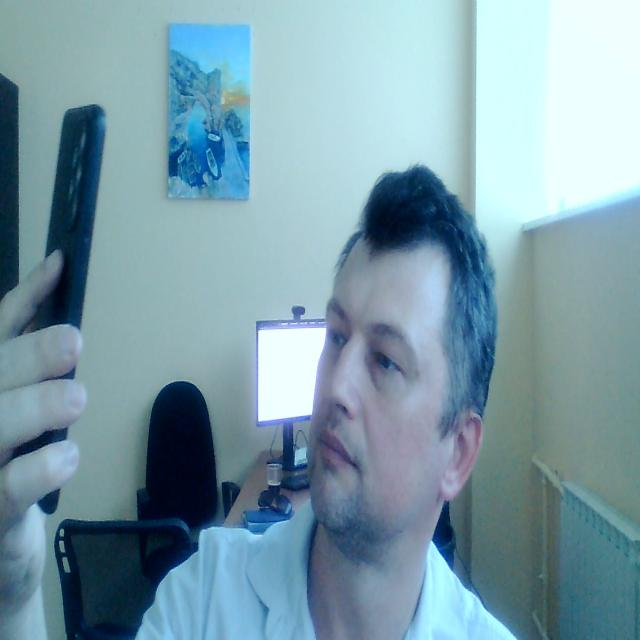phone: (21, 101, 106, 514)
